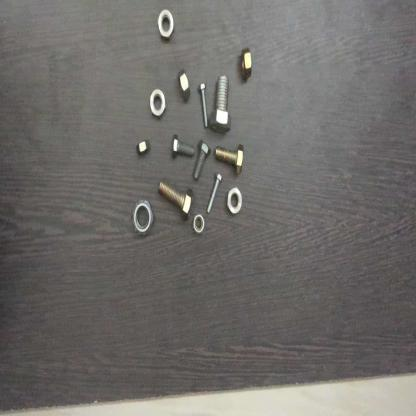Bolts: (156, 180, 194, 220), (209, 69, 231, 138), (212, 140, 251, 170), (193, 138, 211, 186), (170, 133, 195, 162), (207, 174, 222, 214)
NUTS: (130, 194, 154, 242), (154, 7, 177, 42), (226, 183, 244, 217), (238, 46, 254, 84), (151, 86, 167, 121), (134, 132, 151, 160), (176, 66, 190, 99)
